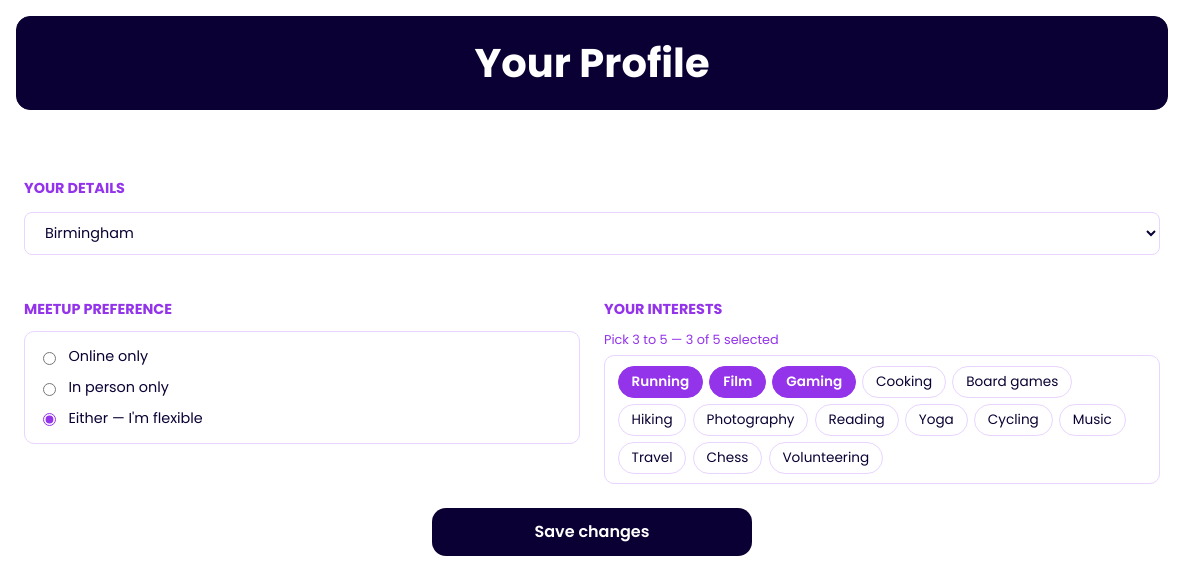
Test case: Profile component › can deselect an interest
What coordinates should you click on to do the following:
click the button "Running"
I would click on:
 (660, 382)
Its box is [618, 366, 703, 398].
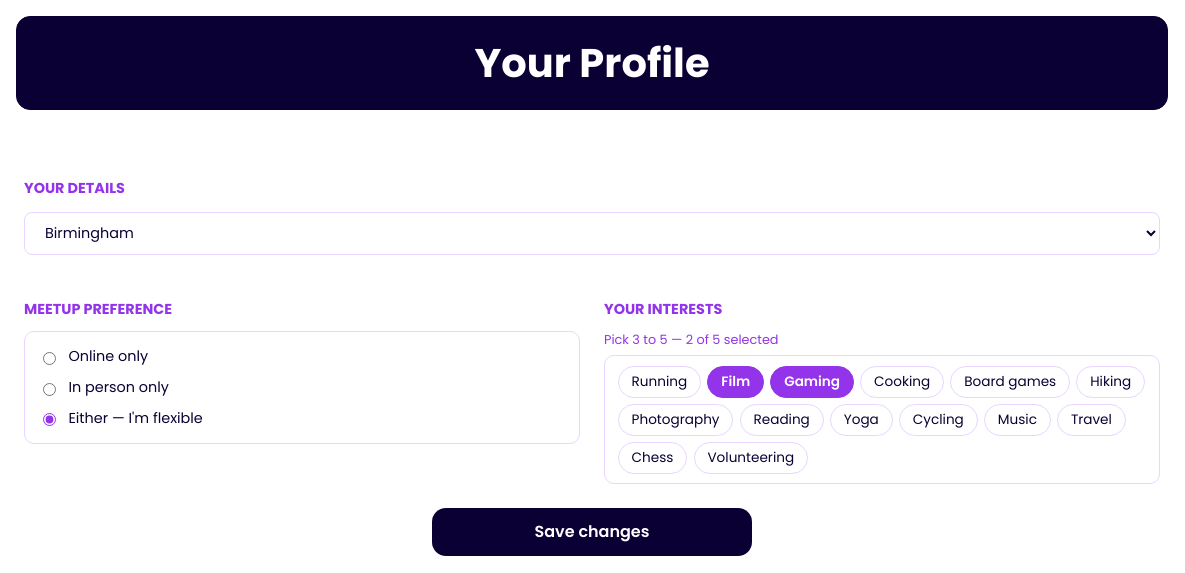
Expected: the text "Pick 3 to 5 — 2 of 5 selected" is shown, [604, 331, 778, 348]
